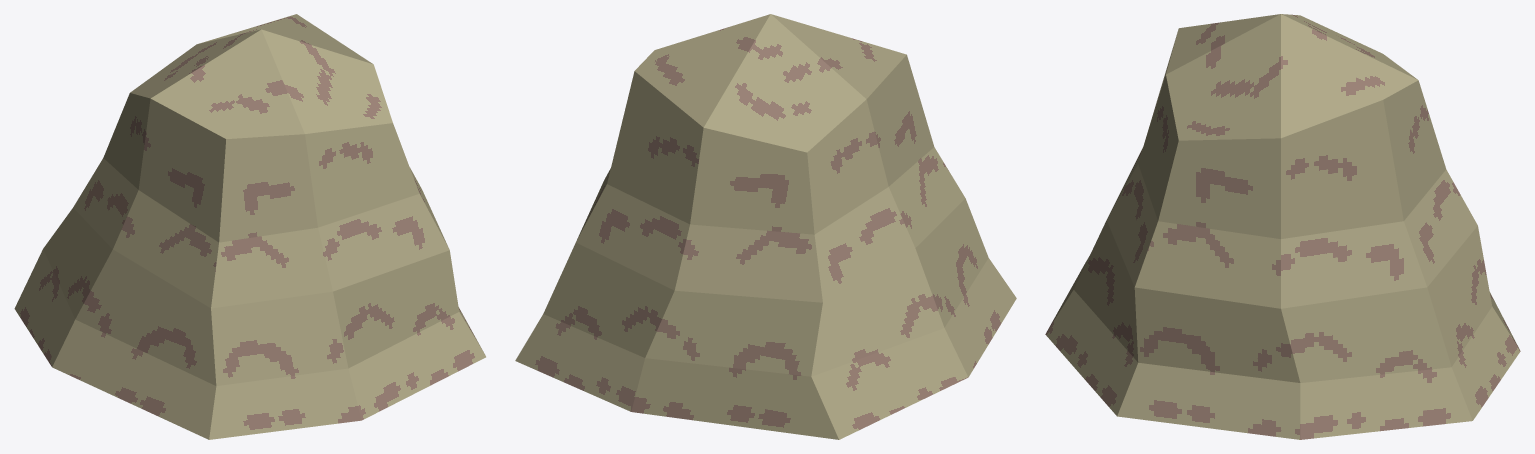
File: mount_of_clay.glb
3 renders of one model, left to right at view 1: azimuth 30°, elevation 25°; view 2: azimuth 150°, elevation 25°; view 3: azimuth 270°, elevation 25°, orthographic. The views are drawn at different scales.
Visible parts, largest first — view 1: Cube; view 2: Cube; view 3: Cube.
Part boxes in pixels (left/top/right/bottom): Cube: left=14, top=14, right=485, bottom=439; Cube: left=515, top=14, right=1016, bottom=439; Cube: left=1045, top=14, right=1520, bottom=439.
Bounding box in the file's own units: 2.36 × 1.76 × 2.32.
Materials: 1 (1 with a texture image).
